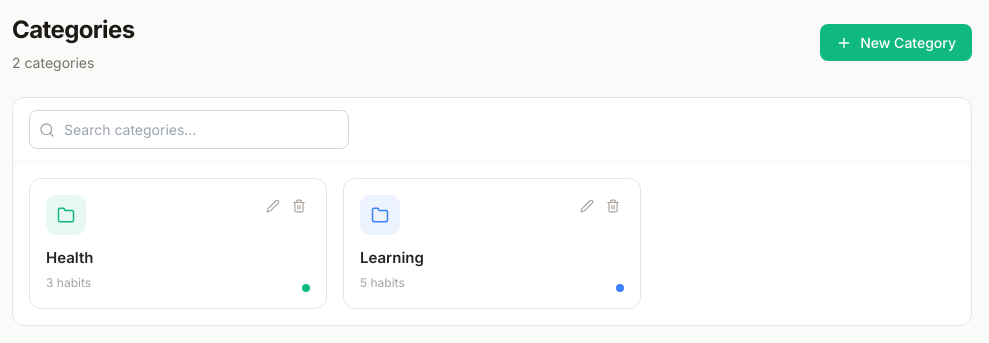
Test case: Categories › filters categories by search
Expected: the text "Health" is shown, [46,248,94,267]
In the field with placeholder "Search categories…": (189, 130) [29,110,349,149], type "learn"
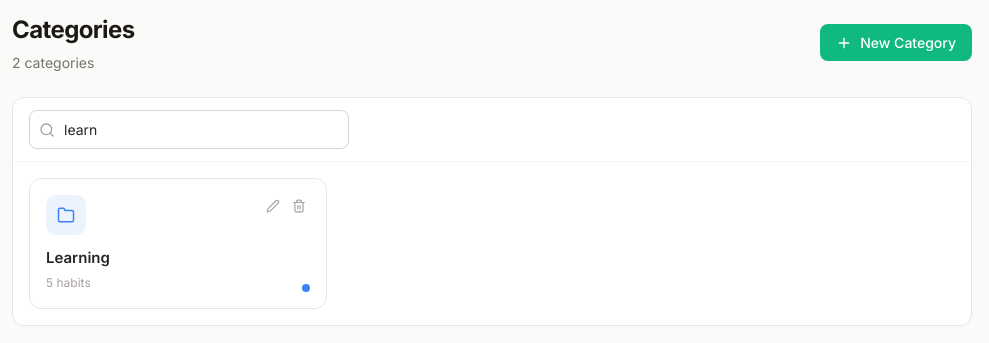
Expected: the text "Learning" is shown, [46,248,110,267]
Expected: the text "Health" is gone
